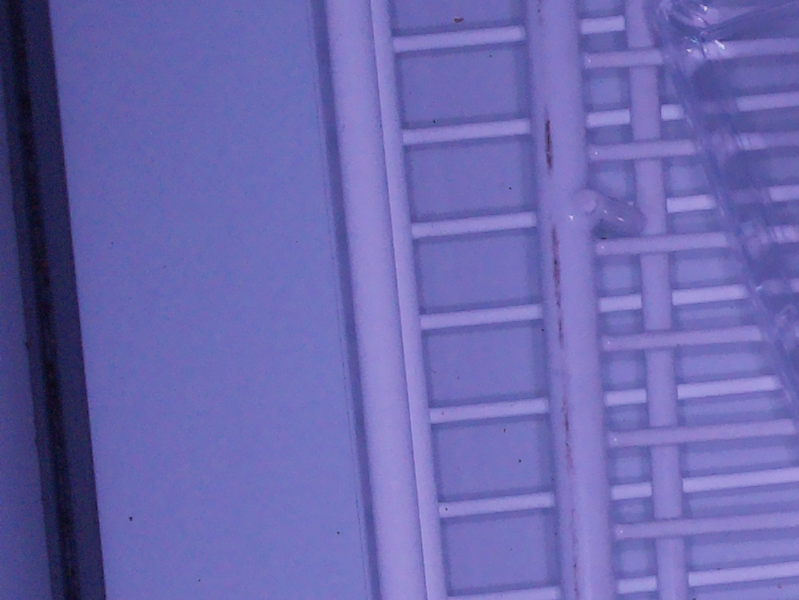plate: (639, 1, 799, 442)
